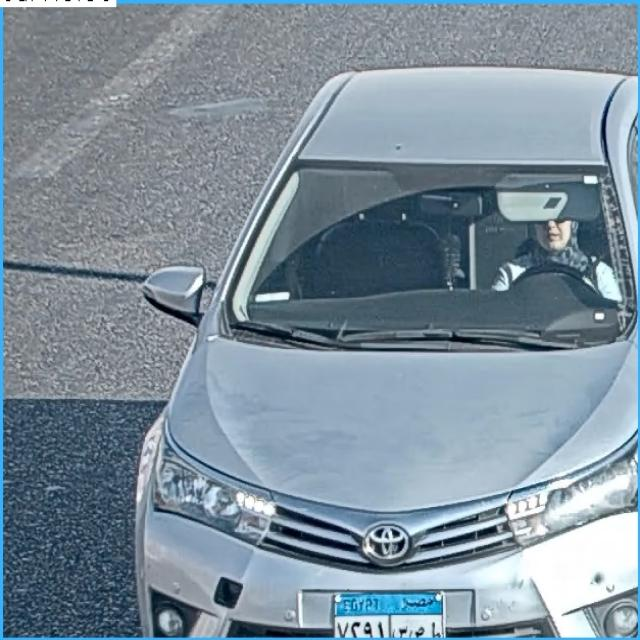windshield: (223, 154, 622, 343)
